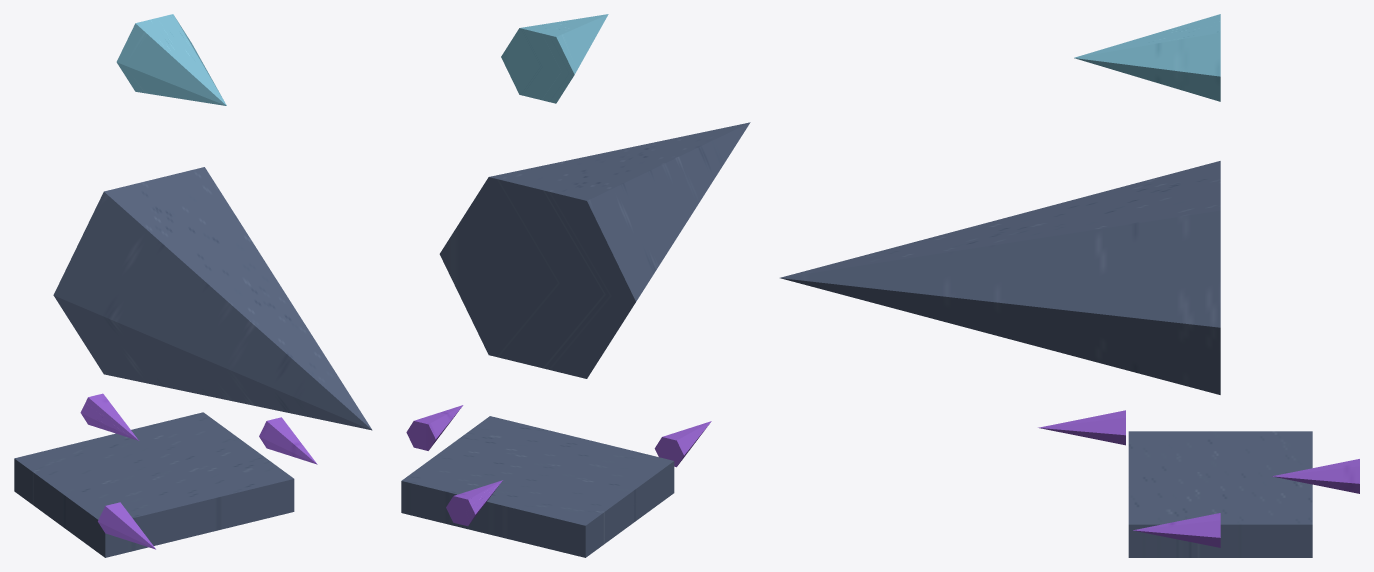
Rendered from frost_waystone_lod1.glb.
The picture shows the model from 3 angles, left to right: view 1: azimuth 30°, elevation 25°; view 2: azimuth 150°, elevation 25°; view 3: azimuth 270°, elevation 25°; orthographic projection. The views are drawn at different scales.
Visible parts, largest first — view 1: stone_1, stone_0, ice_2, spirit_3, spirit_4, spirit_5; view 2: stone_1, stone_0, ice_2, spirit_3, spirit_5, spirit_4; view 3: stone_1, stone_0, ice_2, spirit_3, spirit_5, spirit_4.
Part boxes in pixels (x1,y1,x2,y2): stone_1: [53, 167, 372, 430]; stone_0: [14, 412, 294, 557]; ice_2: [116, 14, 226, 105]; spirit_3: [259, 417, 317, 464]; spirit_4: [98, 502, 155, 549]; spirit_5: [80, 393, 138, 440]; stone_1: [439, 122, 750, 378]; stone_0: [401, 416, 674, 557]; ice_2: [501, 14, 608, 103]; spirit_3: [406, 405, 463, 450]; spirit_5: [446, 480, 502, 526]; spirit_4: [654, 421, 711, 467]; stone_1: [780, 161, 1220, 394]; stone_0: [1128, 431, 1312, 557]; ice_2: [1074, 14, 1220, 101]; spirit_3: [1133, 513, 1220, 547]; spirit_5: [1272, 459, 1359, 493]; spirit_4: [1038, 410, 1125, 445].
Size of the model in its own units: 3.78 by 7.32 by 7.89.
3 materials, 3 textured.
